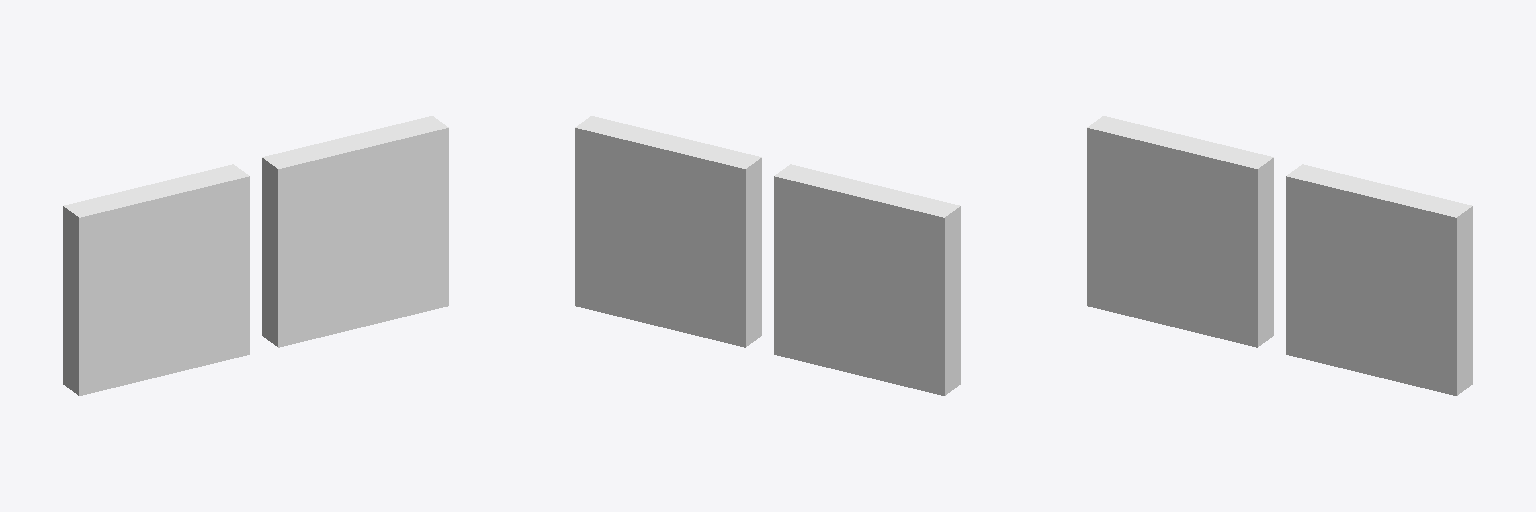
File: vitre3.obj
3 views of the same model, side by side, from view 1: azimuth 30°, elevation 25°; view 2: azimuth 150°, elevation 25°; view 3: azimuth 330°, elevation 25° (orthographic).
Parts seen in each view (by area): view 1: object 1; view 2: object 1; view 3: object 1.
Part boxes in pixels (x1,y1,x2,y2): object 1: (63,116,448,395); object 1: (575,116,960,395); object 1: (1087,116,1472,395).
Bounding box in the file's own units: 1.3 × 0.6 × 0.1.